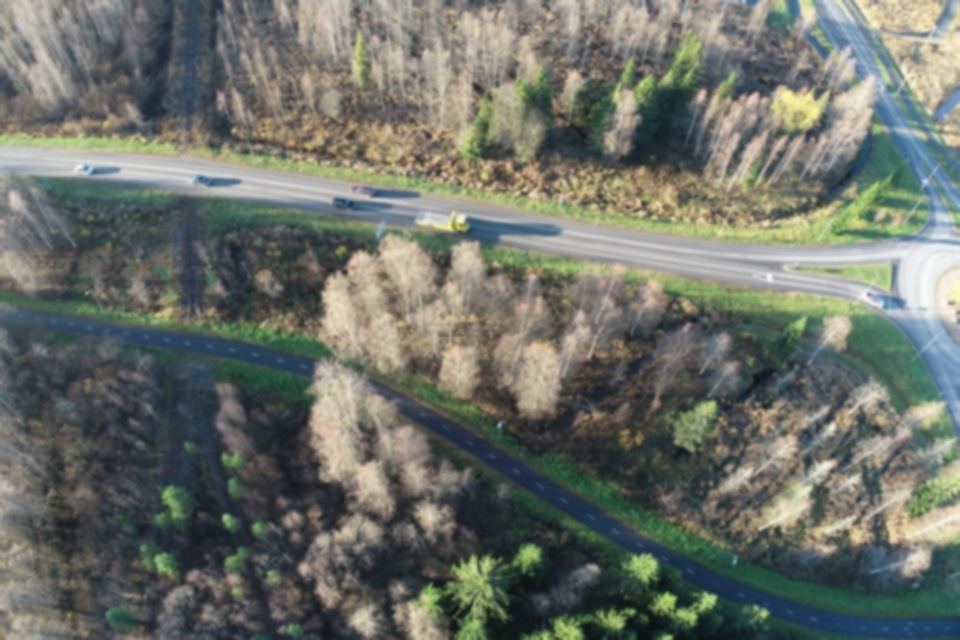roundabout: (861, 187, 960, 410)
